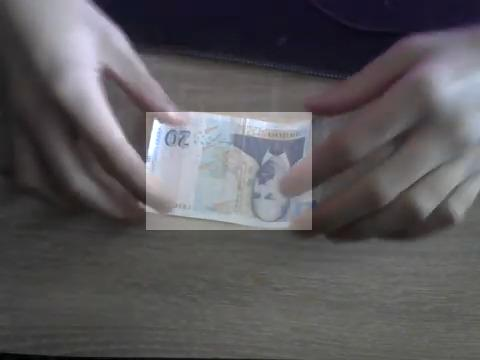20leva: (146, 112, 312, 230)
